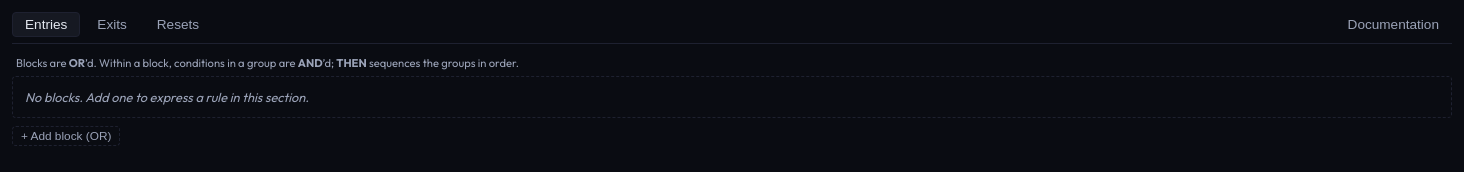
it: BlockEditor (v4 / two-section model) › Reset tab › clicking the resets tab renders the resets section with the add-reset-block button
The image size is (1464, 172).
Click the tab with test id "section-tab-resets" at (178, 24), box [144,12,212,37]
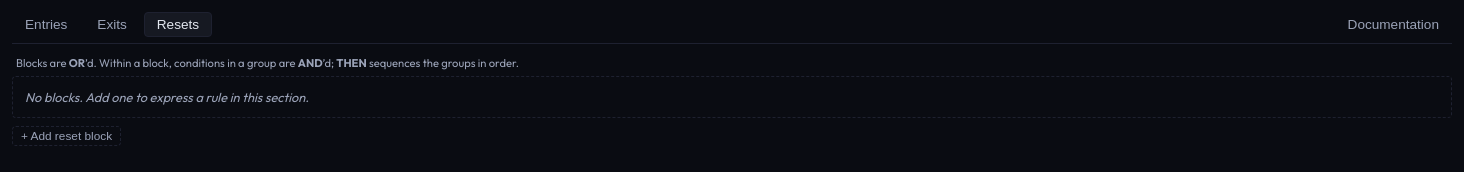
Expected: the button with test id "add-block-btn" shows "Add reset block", [12,126,121,146]
